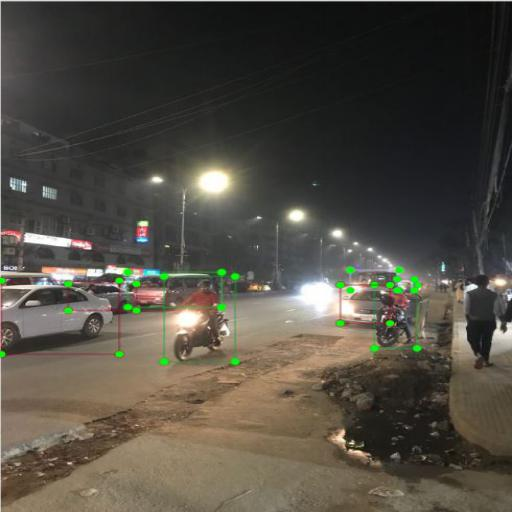bus: (350, 270, 399, 290)
car: (1, 281, 119, 354), (340, 285, 390, 323), (68, 284, 136, 310)
motorbike: (164, 276, 235, 362), (374, 285, 417, 348)
three wheelers (CNG): (397, 279, 414, 290)
van: (128, 272, 222, 307)
